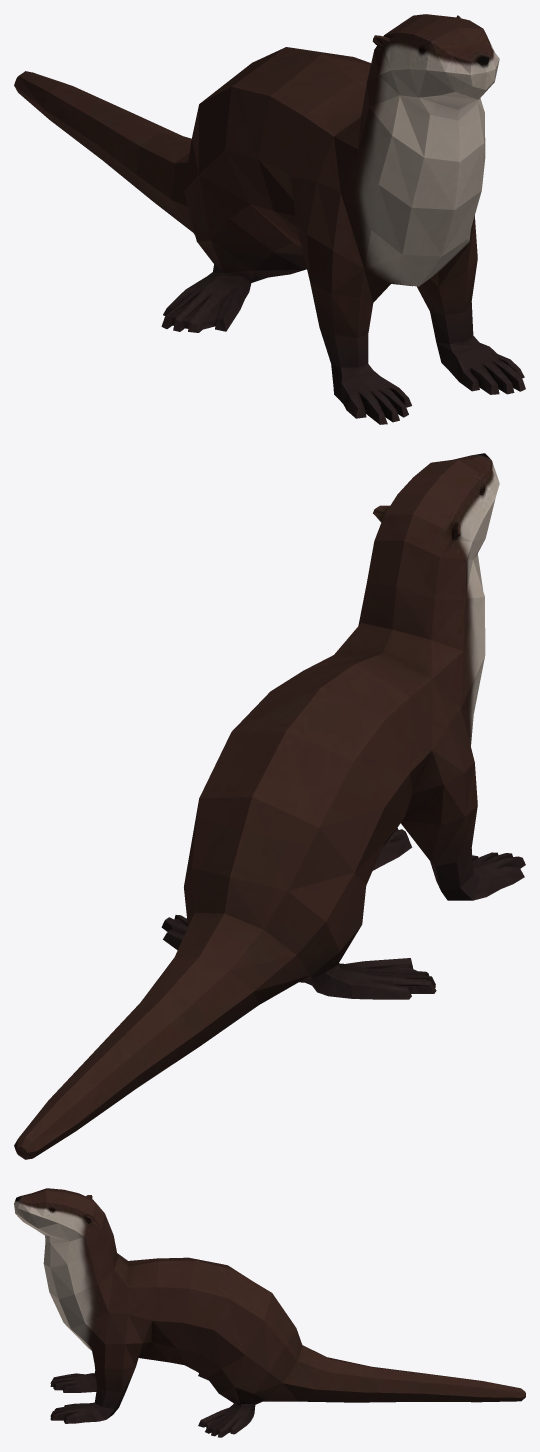
Rendered from otter.glb.
3 renders of one model, top to bottom at view 1: azimuth 30°, elevation 25°; view 2: azimuth 150°, elevation 25°; view 3: azimuth 270°, elevation 25°, orthographic. The views are drawn at different scales.
Parts seen in each view (by area): view 1: RiverOtter_Mesh; view 2: RiverOtter_Mesh; view 3: RiverOtter_Mesh.
Boxes of the visible parts, bbox=[...] form: RiverOtter_Mesh: bbox=[14, 14, 525, 424]; RiverOtter_Mesh: bbox=[14, 453, 525, 1159]; RiverOtter_Mesh: bbox=[14, 1188, 525, 1437].
Bounding box in the file's own units: 0.3548 × 0.4774 × 1.05.
Materials: 1 (1 with a texture image).
